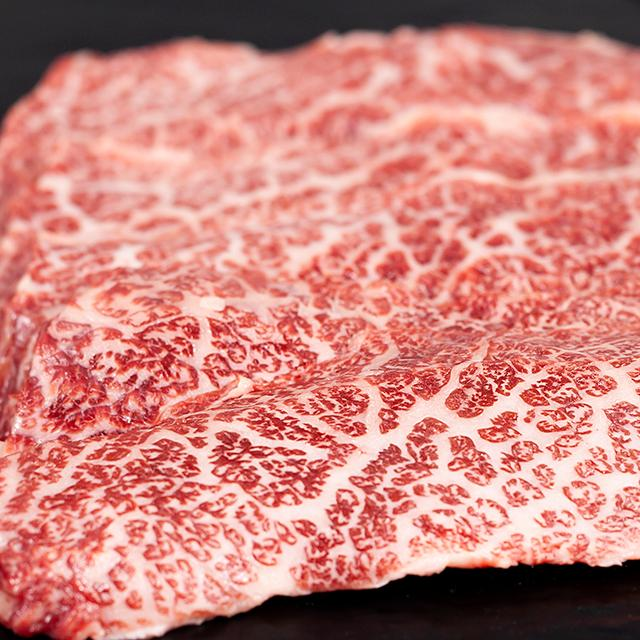beef: (41, 74, 640, 551)
